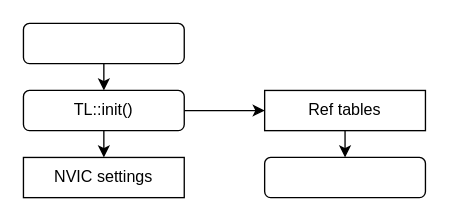
The diagram is 449 pixels wide and 221 high, and some of its shapes have lost their labels. The shapes that lost their labels are listed below. From the top down, each one's box as (x1, y1, x2, y2) in pixels, then its label:
(22, 22, 184, 64): BLE init()
(263, 156, 425, 198): IPCC hardware init()
